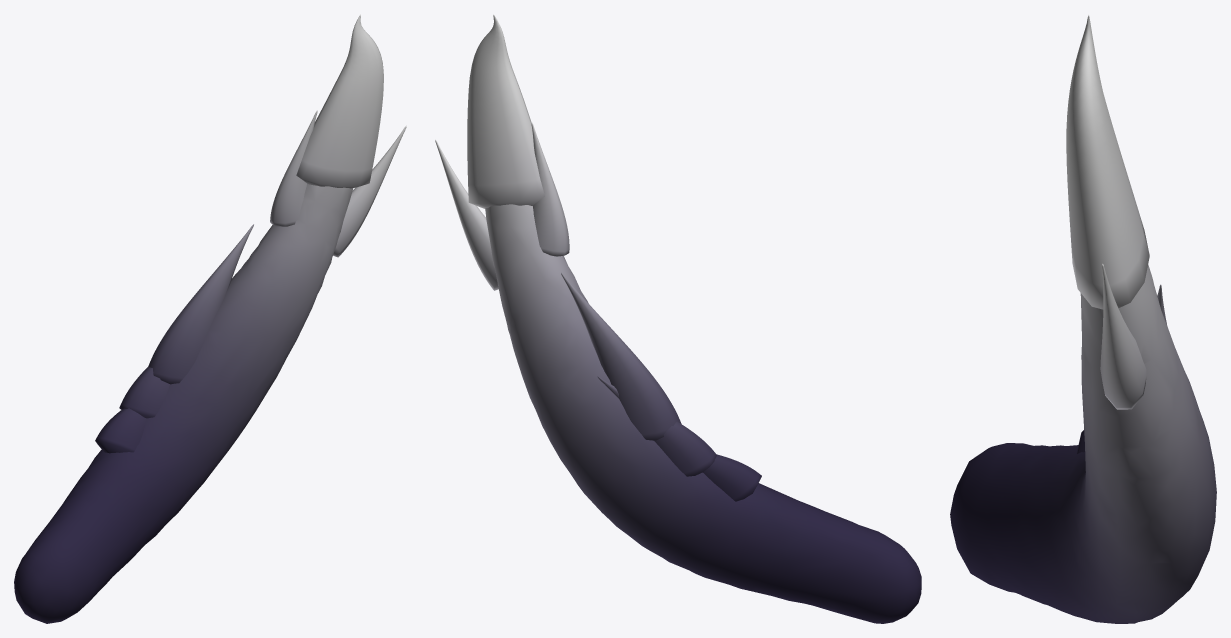
Rendered from monarca_chama_frente_d.fbx.
3 renders of one model, left to right at view 1: azimuth 30°, elevation 25°; view 2: azimuth 150°, elevation 25°; view 3: azimuth 270°, elevation 25°, orthographic. The views are drawn at different scales.
Parts seen in each view (by area): view 1: monarca_chama_frente_d; view 2: monarca_chama_frente_d; view 3: monarca_chama_frente_d.
Boxes of the visible parts, left/top/right/bottom form: monarca_chama_frente_d: left=14, top=14, right=406, bottom=623; monarca_chama_frente_d: left=435, top=14, right=921, bottom=623; monarca_chama_frente_d: left=950, top=14, right=1216, bottom=623.
Bounding box in the file's own units: 2.17 × 2.5 × 0.7232.
